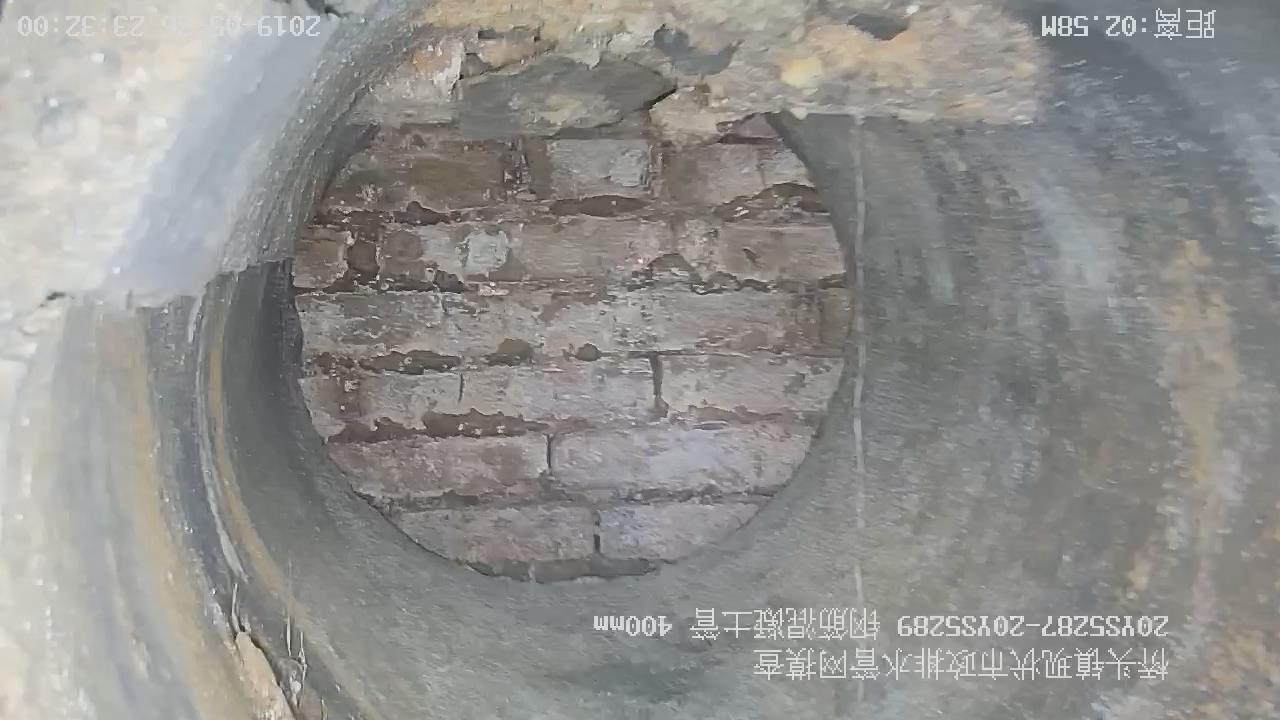CJ: (359, 1, 1045, 141)
SG: (288, 120, 849, 581)
